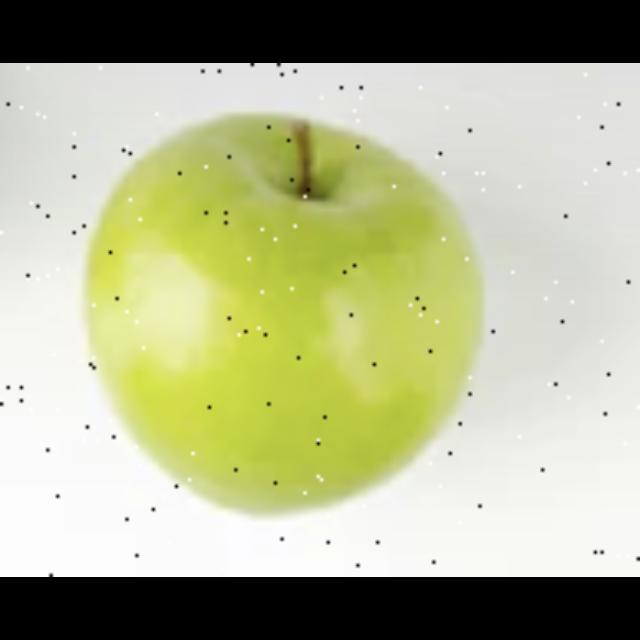Apel Segar: (90, 110, 474, 518)
